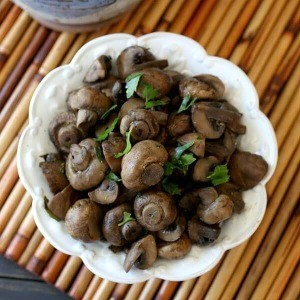mushroom_brain food: (66, 104, 239, 219)
